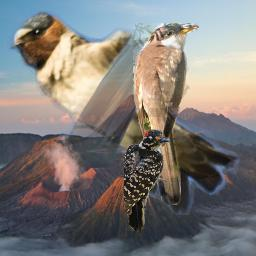Cuckoo: (133, 23, 199, 205)
Swallow: (7, 10, 240, 215)
Woodpecker: (124, 128, 170, 235)
